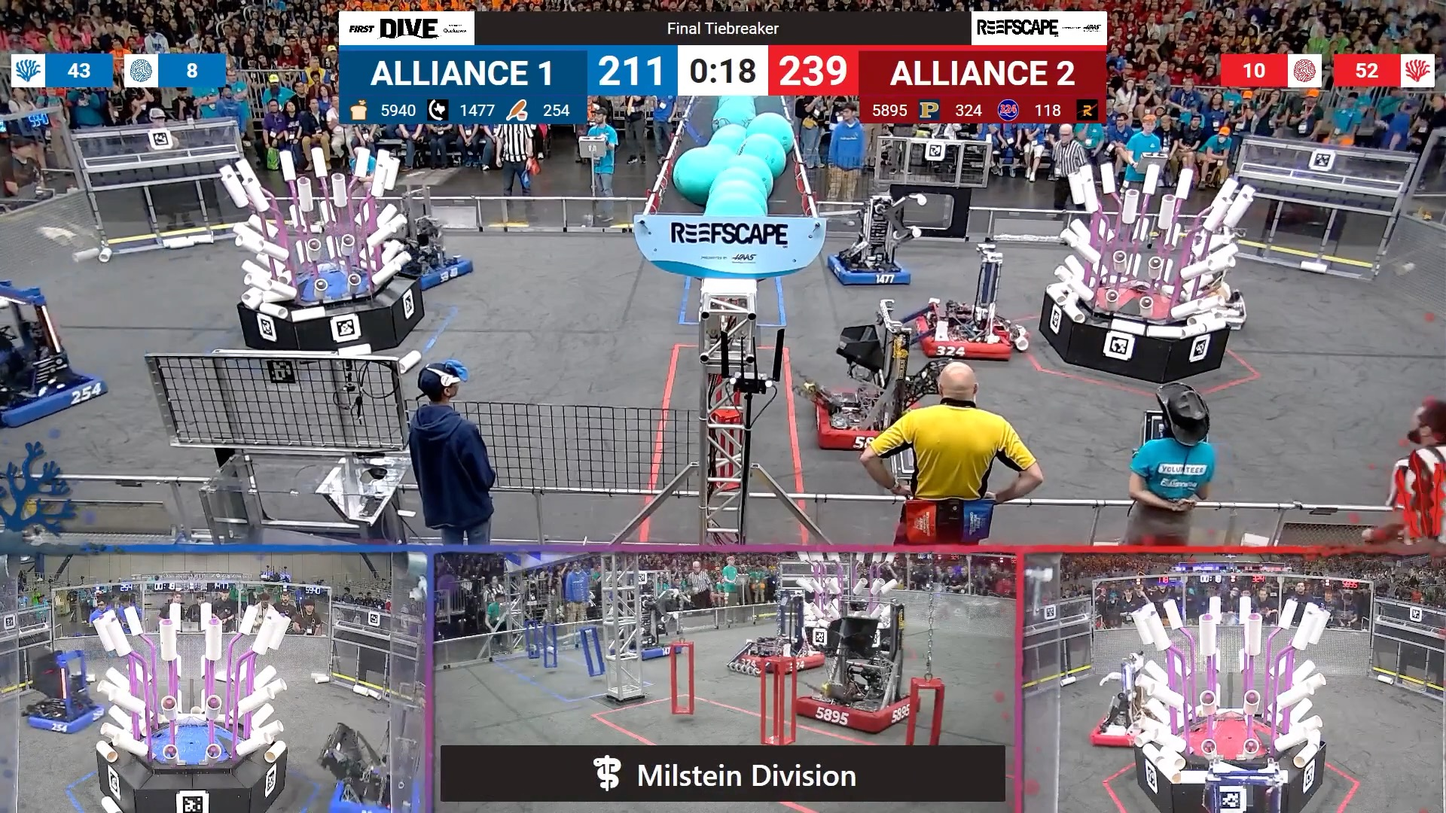bumpers: (0, 362, 109, 434), (808, 392, 916, 456), (910, 308, 1025, 364), (788, 689, 917, 731), (380, 248, 478, 292), (325, 773, 424, 813), (20, 699, 112, 738), (817, 252, 910, 290), (741, 643, 833, 676), (1087, 717, 1153, 754), (612, 640, 689, 664)
